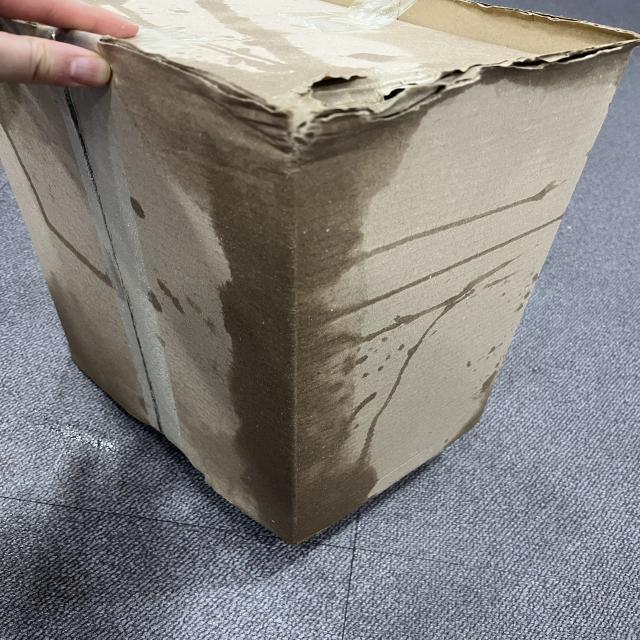wet: (175, 23, 415, 539)
